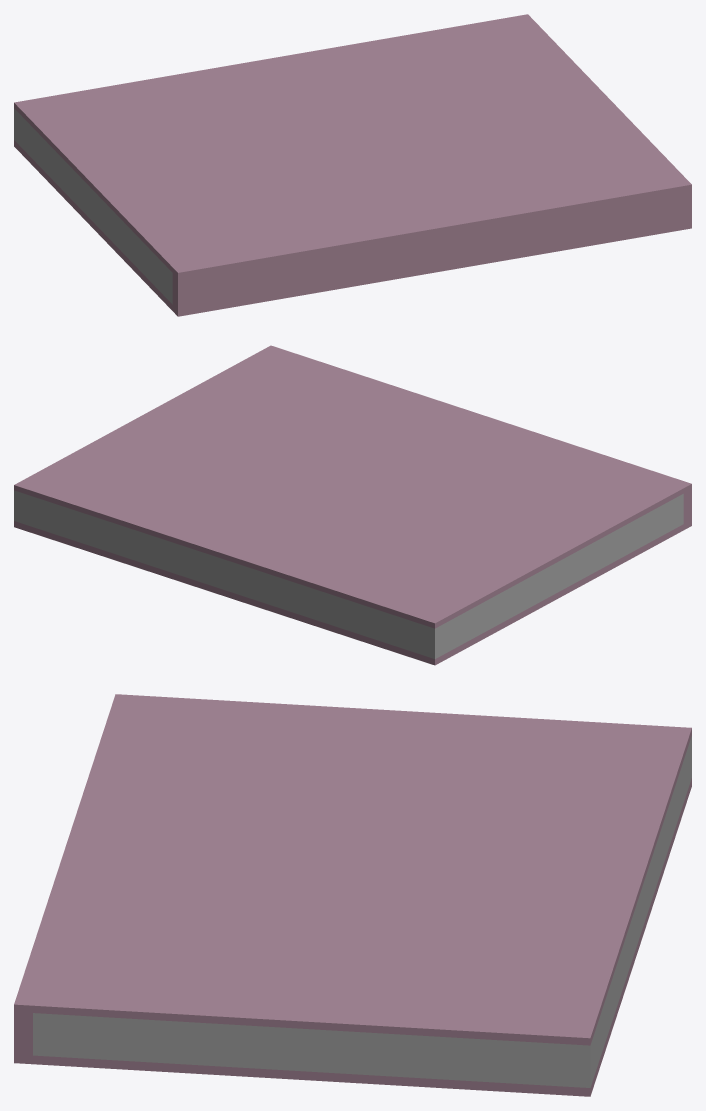
Rendered from book.fbx.
The picture shows the model from 3 angles, top to bottom: view 1: azimuth 30°, elevation 25°; view 2: azimuth 150°, elevation 25°; view 3: azimuth 270°, elevation 25°; orthographic projection. The views are drawn at different scales.
Visible parts, largest first — view 1: book; view 2: book; view 3: book.
Boxes of the visible parts, x1,y1,x2,y2 form: book: (14,14,691,316); book: (14,345,691,665); book: (14,694,691,1096).
Bounding box in the file's own units: 0.4813 × 0.0382 × 0.4007.
